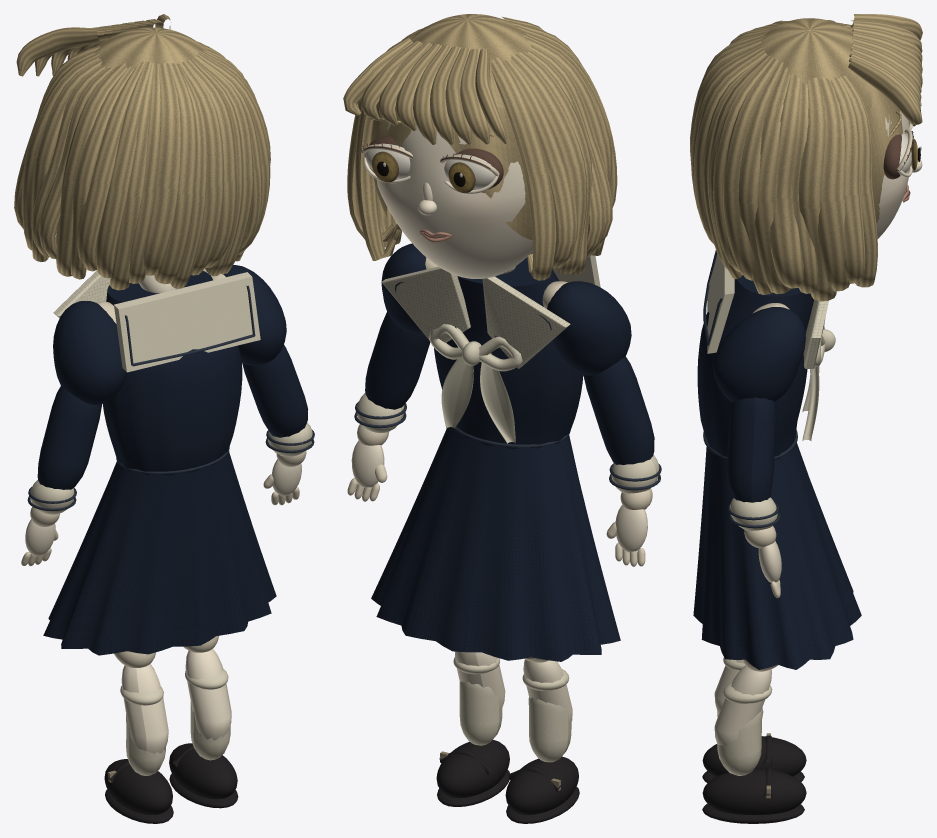
The model's file is student-doll.glb.
The picture shows the model from 3 angles, left to right: view 1: azimuth 30°, elevation 25°; view 2: azimuth 150°, elevation 25°; view 3: azimuth 270°, elevation 25°; orthographic projection. The views are drawn at different scales.
Parts seen in each view (by area): view 1: uniform/woven navy uniform, head/ash blonde hair, uniform/woven cream collar, porcelain-body/aged ivory porcelain, socks-and-shoes/worn dark leather, socks-and-shoes/woven cream collar, porcelain-body/porcelain joints, uniform/navy piping; view 2: uniform/woven navy uniform, head/ash blonde hair, uniform/woven cream collar, head/aged ivory porcelain, socks-and-shoes/worn dark leather, socks-and-shoes/woven cream collar, porcelain-body/aged ivory porcelain, porcelain-body/porcelain joints, uniform/navy piping, head/glass eye sclera, head/amber glass iris, head/eyelid recess (+1 smaller); view 3: head/ash blonde hair, uniform/woven navy uniform, socks-and-shoes/worn dark leather, uniform/woven cream collar, porcelain-body/aged ivory porcelain, socks-and-shoes/woven cream collar, head/aged ivory porcelain, uniform/navy piping, porcelain-body/porcelain joints, head/eyelid recess.
Boxes of the visible parts, x1,y1,x2,y2 form: uniform/woven navy uniform: (37, 265, 308, 655); head/ash blonde hair: (14, 14, 270, 290); uniform/woven cream collar: (30, 268, 312, 514); porcelain-body/aged ivory porcelain: (25, 275, 301, 753); socks-and-shoes/worn dark leather: (104, 743, 238, 823); socks-and-shoes/woven cream collar: (120, 668, 230, 775); porcelain-body/porcelain joints: (21, 273, 306, 667); uniform/navy piping: (27, 285, 314, 511); uniform/woven navy uniform: (365, 243, 654, 661); head/ash blonde hair: (343, 14, 617, 280); uniform/woven cream collar: (357, 251, 659, 493); head/aged ivory porcelain: (364, 122, 533, 278); socks-and-shoes/worn dark leather: (436, 740, 579, 823); socks-and-shoes/woven cream collar: (453, 657, 571, 762); porcelain-body/aged ivory porcelain: (351, 266, 647, 721); porcelain-body/porcelain joints: (347, 257, 652, 662); uniform/navy piping: (354, 281, 661, 490); head/glass eye sclera: (366, 143, 494, 189); head/amber glass iris: (372, 151, 475, 193); head/eyelid recess: (361, 136, 503, 238); head/ash blonde hair: (690, 14, 922, 301); uniform/woven navy uniform: (693, 275, 861, 669); socks-and-shoes/worn dark leather: (702, 735, 806, 823); uniform/woven cream collar: (707, 254, 835, 530); porcelain-body/aged ivory porcelain: (714, 540, 781, 745); socks-and-shoes/woven cream collar: (717, 657, 772, 775); head/aged ivory porcelain: (876, 111, 922, 238); uniform/navy piping: (703, 250, 824, 528); porcelain-body/porcelain joints: (743, 303, 789, 671); head/eyelid recess: (883, 131, 913, 198).
Bounding box in the file's own units: 0.5981 × 1.53 × 0.4153.
14 materials, 3 textured.
